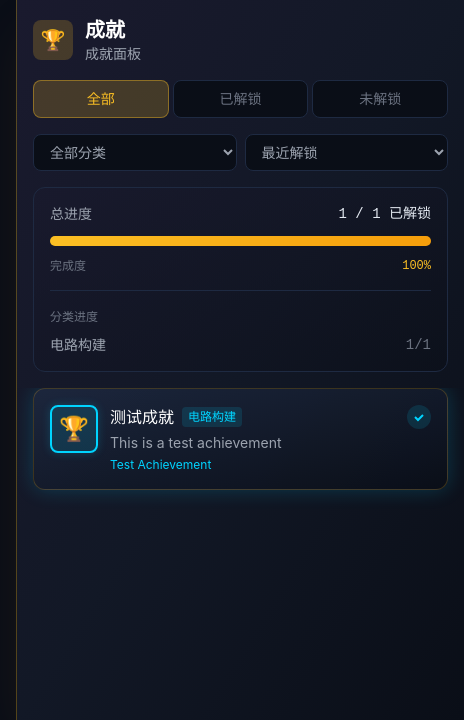
AchievementPanel Component › AC-181-002: AchievementPanel filtering works › empty state displays when no achievements match filter
This screenshot has width=464, height=720.
Click locked tab - should show empty state
Click the button with test id "achievement-tab-locked".
click(380, 99)  # box top-left (312, 80), bottom-right (448, 118)
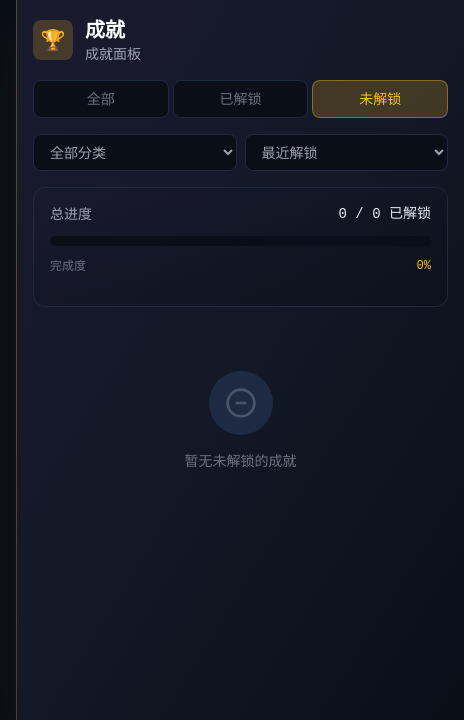
Expected: the element with test id "achievement-empty-state" is shown, top-left (184, 371), bottom-right (296, 469)
